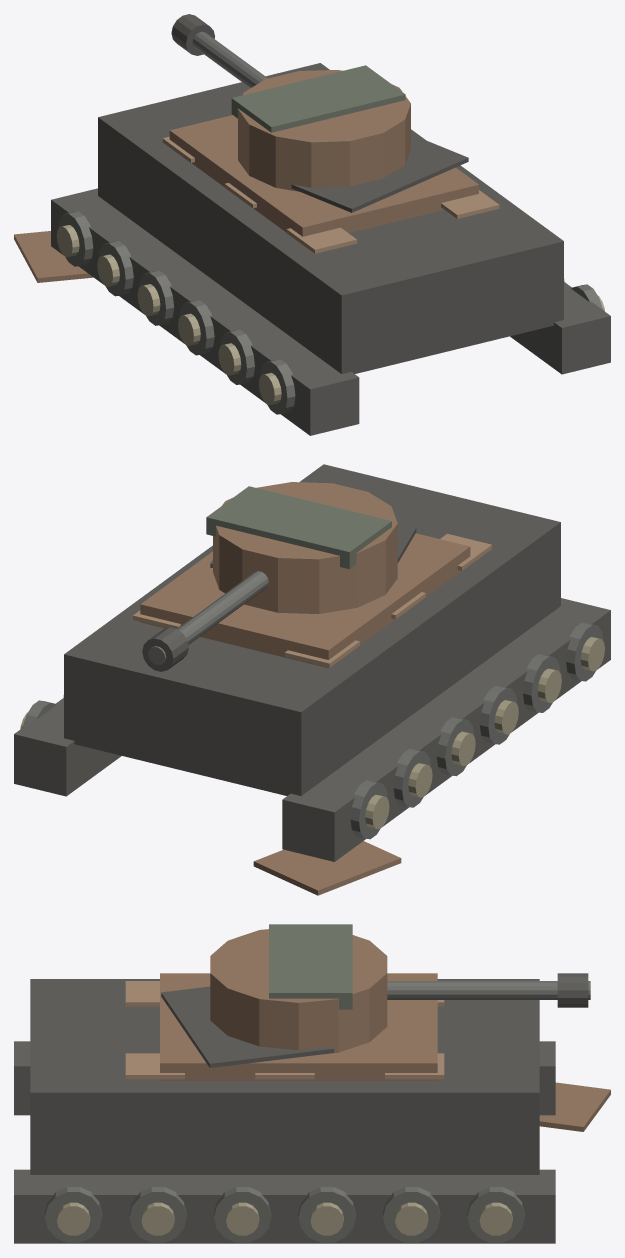
The model's file is panzerwrack_3d.glb.
3 views of the same model, one above another, from view 1: azimuth 30°, elevation 25°; view 2: azimuth 150°, elevation 25°; view 3: azimuth 270°, elevation 25° (orthographic). The views are drawn at different scales.
Parts seen in each view (by area): view 1: panzerwrack_3d_n27, panzerwrack_3d_n1, panzerwrack_3d_n29, panzerwrack_3d_n28, panzerwrack_3d_n30, panzerwrack_3d_n14, panzerwrack_3d_n39, panzerwrack_3d_n40, panzerwrack_3d_n31, panzerwrack_3d_n37, panzerwrack_3d_n8, panzerwrack_3d_n4 (+12 smaller); view 2: panzerwrack_3d_n27, panzerwrack_3d_n1, panzerwrack_3d_n28, panzerwrack_3d_n29, panzerwrack_3d_n30, panzerwrack_3d_n14, panzerwrack_3d_n40, panzerwrack_3d_n31, panzerwrack_3d_n32, panzerwrack_3d_n2, panzerwrack_3d_n4, panzerwrack_3d_n10 (+11 smaller); view 3: panzerwrack_3d_n27, panzerwrack_3d_n14, panzerwrack_3d_n29, panzerwrack_3d_n28, panzerwrack_3d_n30, panzerwrack_3d_n39, panzerwrack_3d_n31, panzerwrack_3d_n1, panzerwrack_3d_n40, panzerwrack_3d_n23, panzerwrack_3d_n15, panzerwrack_3d_n17 (+13 smaller).
Boxes of the visible parts, x1,y1,x2,y2 form: panzerwrack_3d_n27: (98, 63, 563, 373); panzerwrack_3d_n1: (51, 188, 359, 435); panzerwrack_3d_n29: (238, 70, 410, 191); panzerwrack_3d_n28: (169, 115, 478, 236); panzerwrack_3d_n30: (231, 65, 405, 132); panzerwrack_3d_n14: (510, 282, 610, 374); panzerwrack_3d_n39: (291, 134, 468, 212); panzerwrack_3d_n40: (14, 231, 93, 282); panzerwrack_3d_n31: (192, 31, 267, 88); panzerwrack_3d_n37: (286, 227, 357, 253); panzerwrack_3d_n8: (179, 300, 214, 355); panzerwrack_3d_n4: (98, 241, 133, 296); panzerwrack_3d_n27: (64, 464, 560, 795); panzerwrack_3d_n1: (282, 598, 610, 861); panzerwrack_3d_n28: (140, 533, 470, 667); panzerwrack_3d_n29: (213, 482, 397, 613); panzerwrack_3d_n30: (206, 486, 391, 569); panzerwrack_3d_n14: (14, 698, 121, 796); panzerwrack_3d_n40: (253, 841, 401, 895); panzerwrack_3d_n31: (148, 571, 268, 665); panzerwrack_3d_n32: (142, 627, 188, 671); panzerwrack_3d_n2: (350, 780, 387, 839); panzerwrack_3d_n4: (393, 748, 431, 807); panzerwrack_3d_n10: (523, 654, 560, 712); panzerwrack_3d_n27: (30, 979, 539, 1174); panzerwrack_3d_n14: (14, 1169, 555, 1243); panzerwrack_3d_n29: (210, 929, 387, 1053); panzerwrack_3d_n28: (160, 973, 437, 1080); panzerwrack_3d_n30: (269, 924, 352, 1009); panzerwrack_3d_n39: (161, 986, 334, 1067); panzerwrack_3d_n31: (387, 981, 590, 999); panzerwrack_3d_n1: (14, 1041, 555, 1115); panzerwrack_3d_n40: (539, 1082, 610, 1131); panzerwrack_3d_n23: (129, 1187, 186, 1242); panzerwrack_3d_n15: (467, 1187, 524, 1242); panzerwrack_3d_n17: (383, 1187, 440, 1242).
Bounding box in the file's own units: 4.61 × 2.6 × 6.45.
